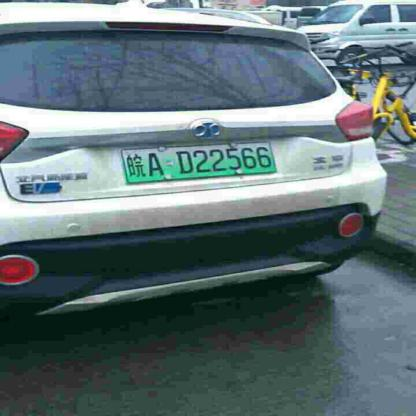lp: (120, 143, 275, 184)
